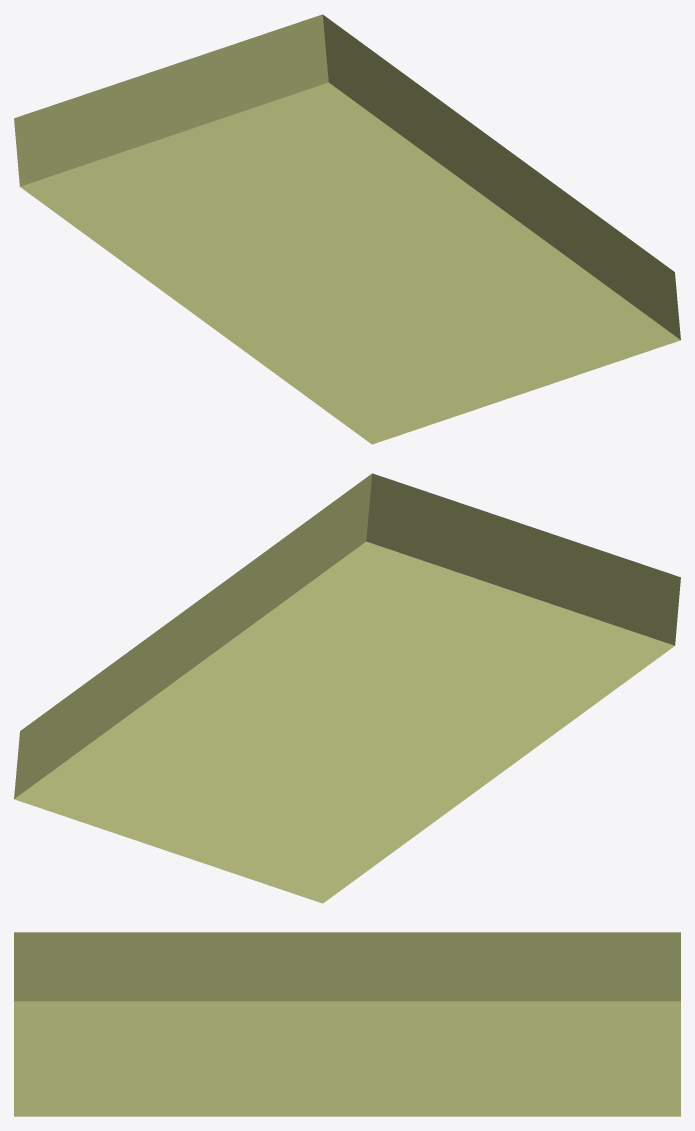
3 renders of one model, top to bottom at view 1: azimuth 30°, elevation 25°; view 2: azimuth 150°, elevation 25°; view 3: azimuth 270°, elevation 25°, orthographic. The views are drawn at different scales.
Visible parts, largest first — view 1: 0_2_3_3_3_1_0_2_3_3_0_0; view 2: 0_2_3_3_3_1_0_2_3_3_0_0; view 3: 0_2_3_3_3_1_0_2_3_3_0_0.
Boxes of the visible parts, <box> form: 0_2_3_3_3_1_0_2_3_3_0_0: <box>14,14,680,444</box>; 0_2_3_3_3_1_0_2_3_3_0_0: <box>14,473,680,903</box>; 0_2_3_3_3_1_0_2_3_3_0_0: <box>14,932,680,1116</box>.
Bounding box in the file's own units: 3.1 × 0.9265 × 6.
